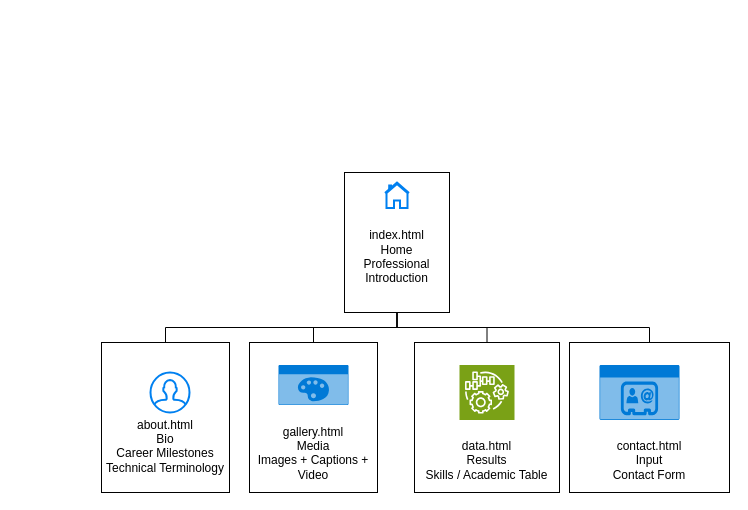
Image size: 748x510. Some labels were removed from this diagram. The shapes that lost their labels are listed below. From the top down, each one's centre as x and y in pixels, then its label:
the point at 313,384: Gallery
the point at 639,392: Contact
